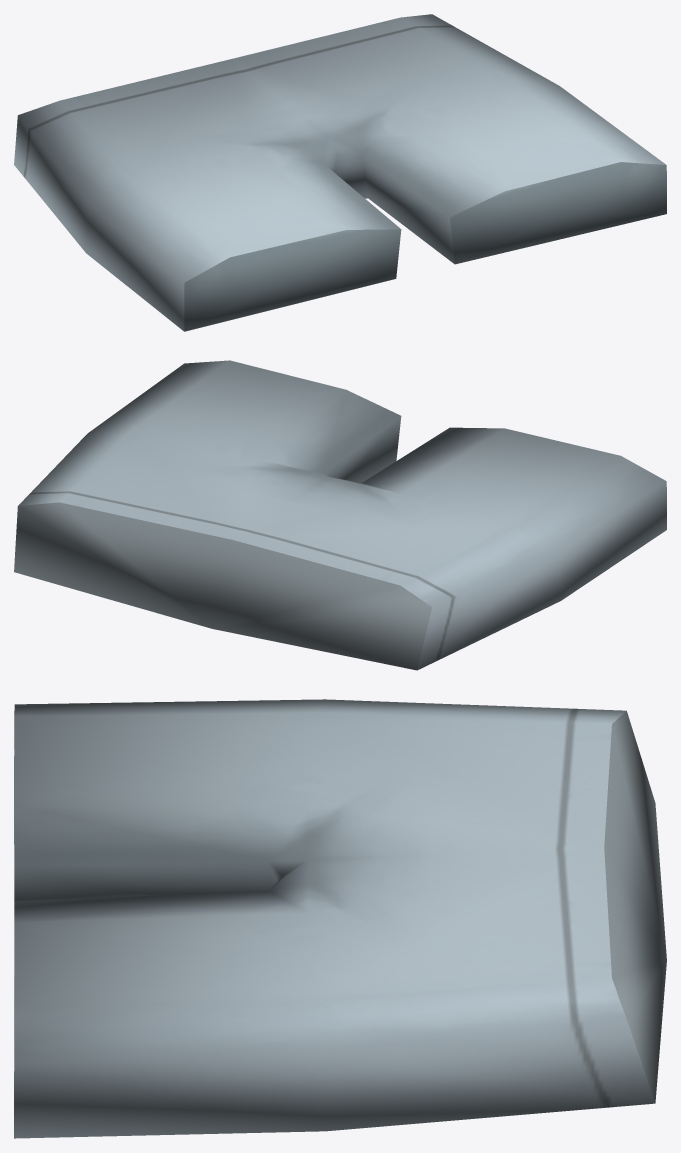
File: Avatar_Trouser_Base_Mod.FBX
The picture shows the model from 3 angles, top to bottom: view 1: azimuth 30°, elevation 25°; view 2: azimuth 150°, elevation 25°; view 3: azimuth 270°, elevation 25°; orthographic projection. The views are drawn at different scales.
Parts seen in each view (by area): view 1: Avatar_Trouser_Base_Mod; view 2: Avatar_Trouser_Base_Mod; view 3: Avatar_Trouser_Base_Mod.
Part boxes in pixels (x1,y1,x2,y2): Avatar_Trouser_Base_Mod: (14, 14, 666, 331); Avatar_Trouser_Base_Mod: (14, 360, 666, 670); Avatar_Trouser_Base_Mod: (14, 699, 666, 1138).
Bounding box in the file's own units: 67.12 × 9.82 × 51.51.
